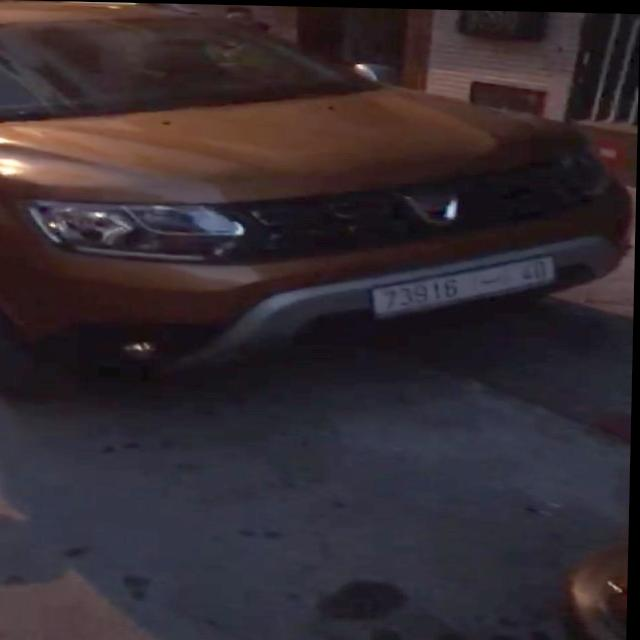License-Plate: (373, 253, 556, 314)
